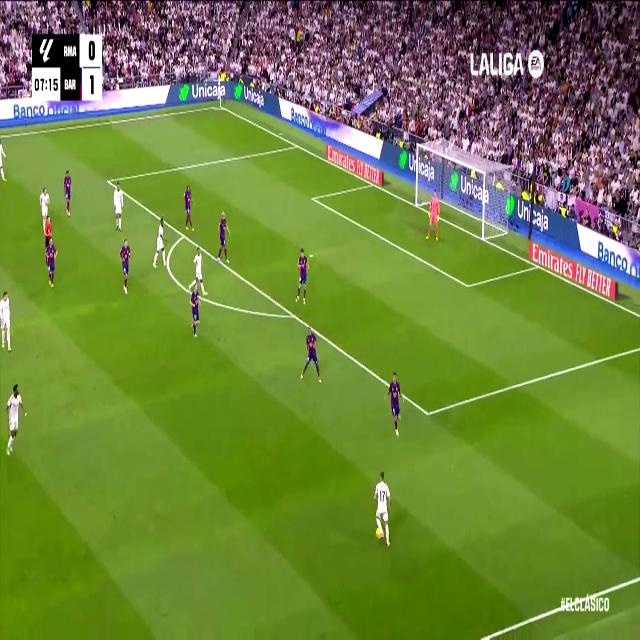bigarea_bottom_inner: (422, 399, 433, 427)
bigarea_top_inner: (106, 174, 110, 187)
bigarea_top_outter: (293, 139, 299, 151)
bottom_arc_area_intersection: (289, 307, 297, 322)
corner: (215, 101, 225, 111)
smallarea_top_inner: (310, 193, 316, 204)
top_arc_area_intersection: (180, 227, 186, 242)
